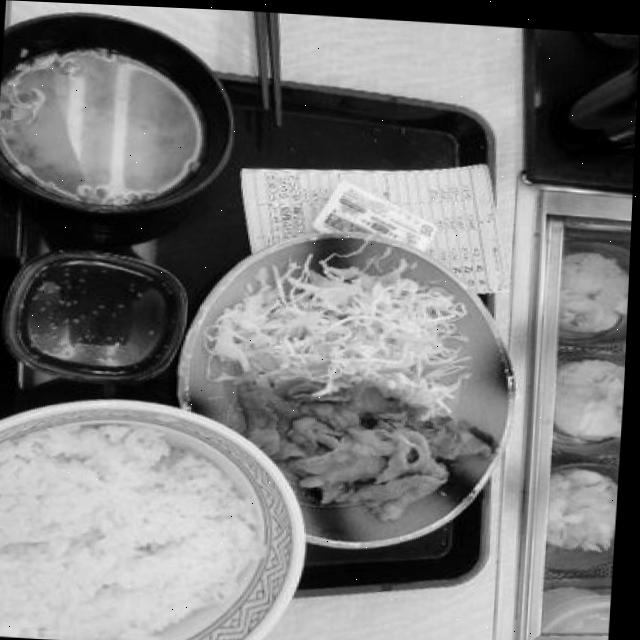汤锅炖物: (0, 17, 237, 235)
米饭主食: (0, 398, 314, 640)
蔬菜料理: (218, 233, 504, 422)
